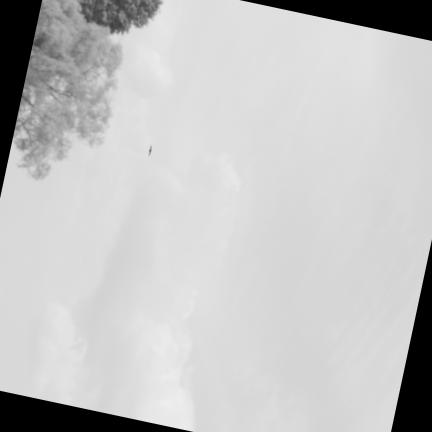Shahed: (148, 146, 150, 155)
